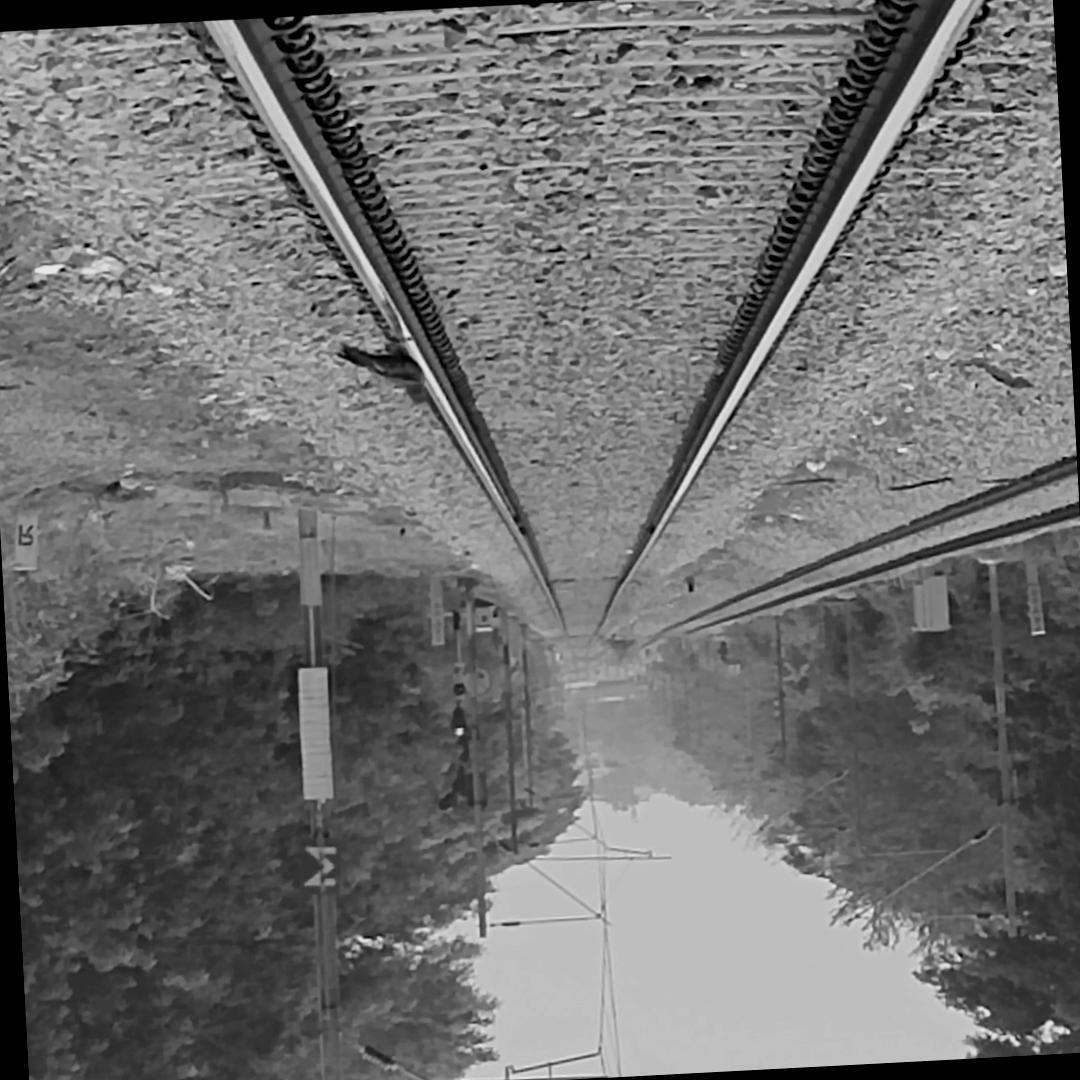track: (79, 0, 1058, 667)
